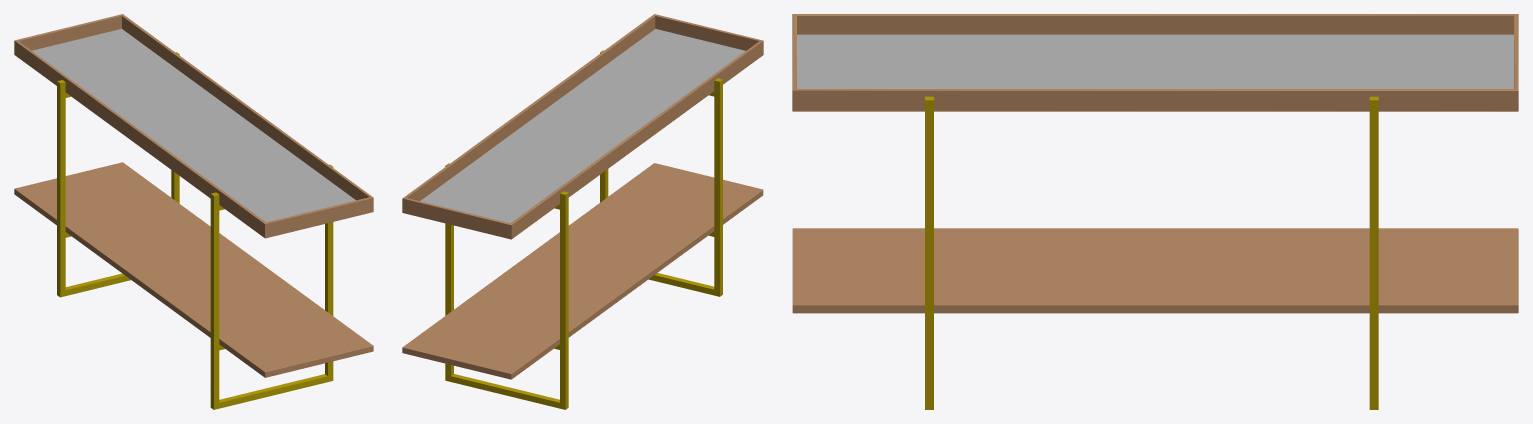
File: aparador-parellada.glb
3 views of the same model, side by side, from view 1: azimuth 30°, elevation 25°; view 2: azimuth 150°, elevation 25°; view 3: azimuth 270°, elevation 25° (orthographic). The views are drawn at different scales.
Size of the model in its own units: 0.44 by 0.7672 by 1.6.
